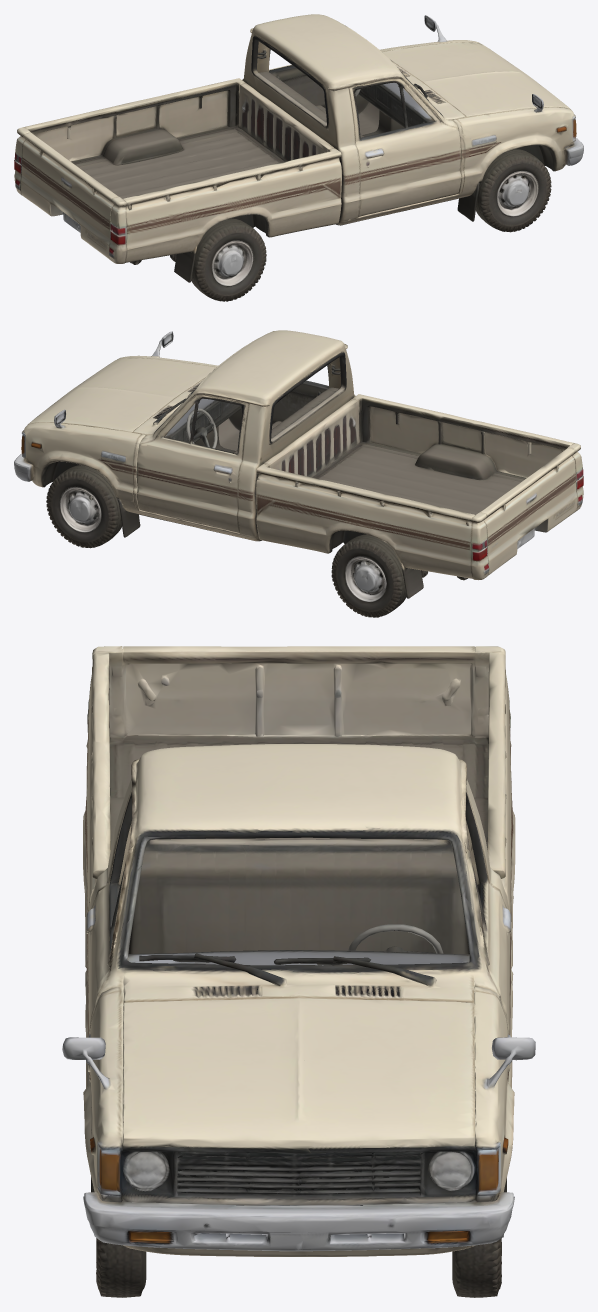
Rendered from model_pbr.glb.
The picture shows the model from 3 angles, top to bottom: view 1: azimuth 30°, elevation 25°; view 2: azimuth 150°, elevation 25°; view 3: azimuth 270°, elevation 25°; orthographic projection. The views are drawn at different scales.
Parts seen in each view (by area): view 1: tripo_node_c976ce91-3ca2-40ad-a5aa-6c338e29560a; view 2: tripo_node_c976ce91-3ca2-40ad-a5aa-6c338e29560a; view 3: tripo_node_c976ce91-3ca2-40ad-a5aa-6c338e29560a.
Boxes of the visible parts, x1,y1,x2,y2 form: tripo_node_c976ce91-3ca2-40ad-a5aa-6c338e29560a: (14, 14, 583, 301); tripo_node_c976ce91-3ca2-40ad-a5aa-6c338e29560a: (14, 330, 583, 617); tripo_node_c976ce91-3ca2-40ad-a5aa-6c338e29560a: (62, 646, 535, 1297).
Bounding box in the file's own units: 0.98 × 0.3715 × 0.4226.
1 material, 1 textured.
